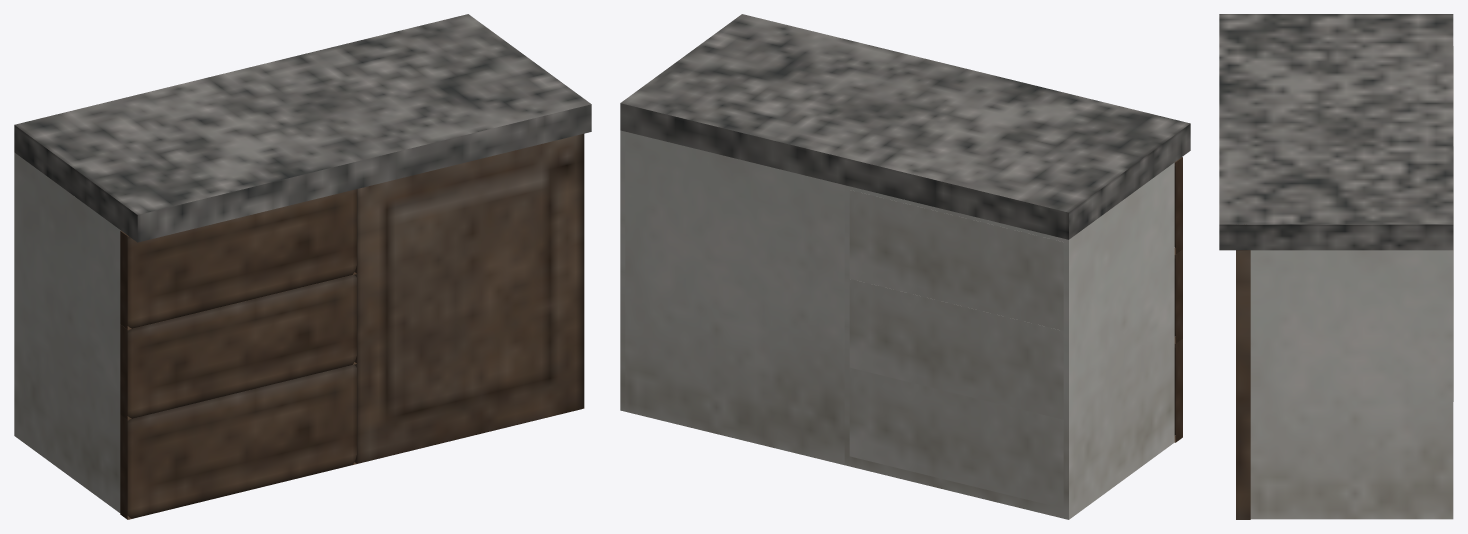
File: SM_EC_House_Kitchen_Worktop_Complete02.fbx
3 views of the same model, side by side, from view 1: azimuth 30°, elevation 25°; view 2: azimuth 150°, elevation 25°; view 3: azimuth 270°, elevation 25° (orthographic). The views are drawn at different scales.
Visible parts, largest first — view 1: SM_EC_House_Kitchen_Worktop_Complete02, SM_EC_CupboardDoor_7.006, SM_EC_FridgeFreezer_Complete_0.022, SM_EC_FridgeFreezer_Complete_0.023, SM_EC_FridgeFreezer_Complete_0.024; view 2: SM_EC_House_Kitchen_Worktop_Complete02, SM_EC_FridgeFreezer_Complete_0.022, SM_EC_FridgeFreezer_Complete_0.024, SM_EC_FridgeFreezer_Complete_0.023; view 3: SM_EC_House_Kitchen_Worktop_Complete02, SM_EC_CupboardDoor_7.006.
Part boxes in pixels (x1,y1,x2,y2): SM_EC_House_Kitchen_Worktop_Complete02: [14, 14, 591, 512]; SM_EC_CupboardDoor_7.006: [357, 133, 584, 463]; SM_EC_FridgeFreezer_Complete_0.022: [120, 362, 357, 519]; SM_EC_FridgeFreezer_Complete_0.023: [120, 274, 357, 419]; SM_EC_FridgeFreezer_Complete_0.024: [120, 189, 357, 329]; SM_EC_House_Kitchen_Worktop_Complete02: [620, 14, 1190, 519]; SM_EC_FridgeFreezer_Complete_0.022: [849, 336, 1182, 508]; SM_EC_FridgeFreezer_Complete_0.024: [849, 157, 1182, 330]; SM_EC_FridgeFreezer_Complete_0.023: [849, 250, 1182, 419]; SM_EC_House_Kitchen_Worktop_Complete02: [1219, 14, 1453, 519]; SM_EC_CupboardDoor_7.006: [1236, 250, 1250, 519].
Size of the model in its own units: 1.74 by 0.8125 by 1.13.
